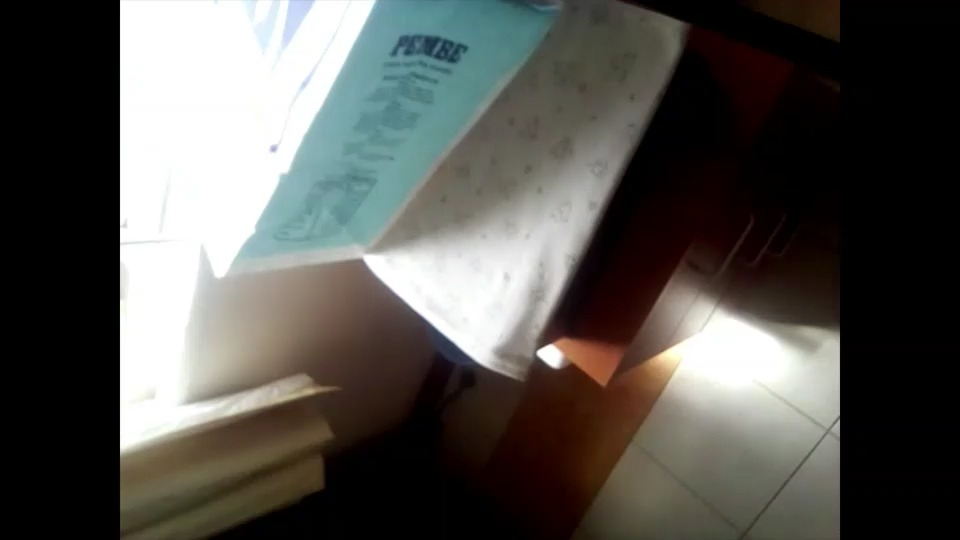wheat_flour_blue_label: (196, 2, 563, 294)
